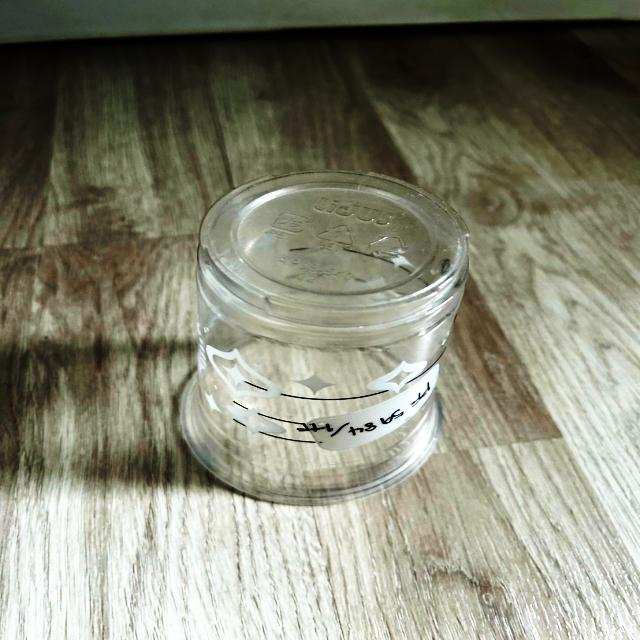Plastic Cup: (180, 172, 468, 504)
